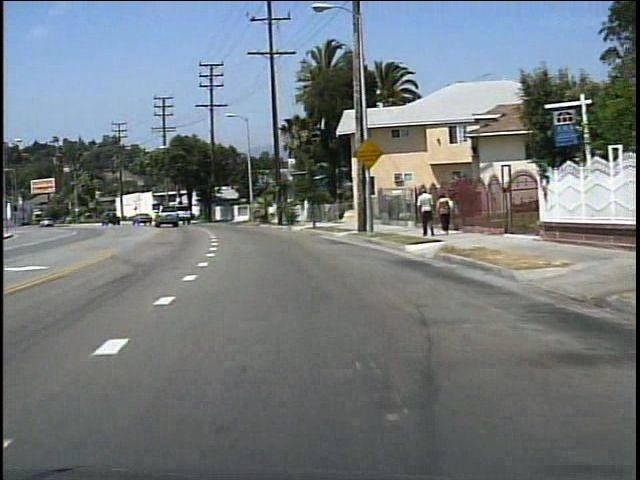person: (414, 184, 435, 240), (433, 189, 456, 234)
